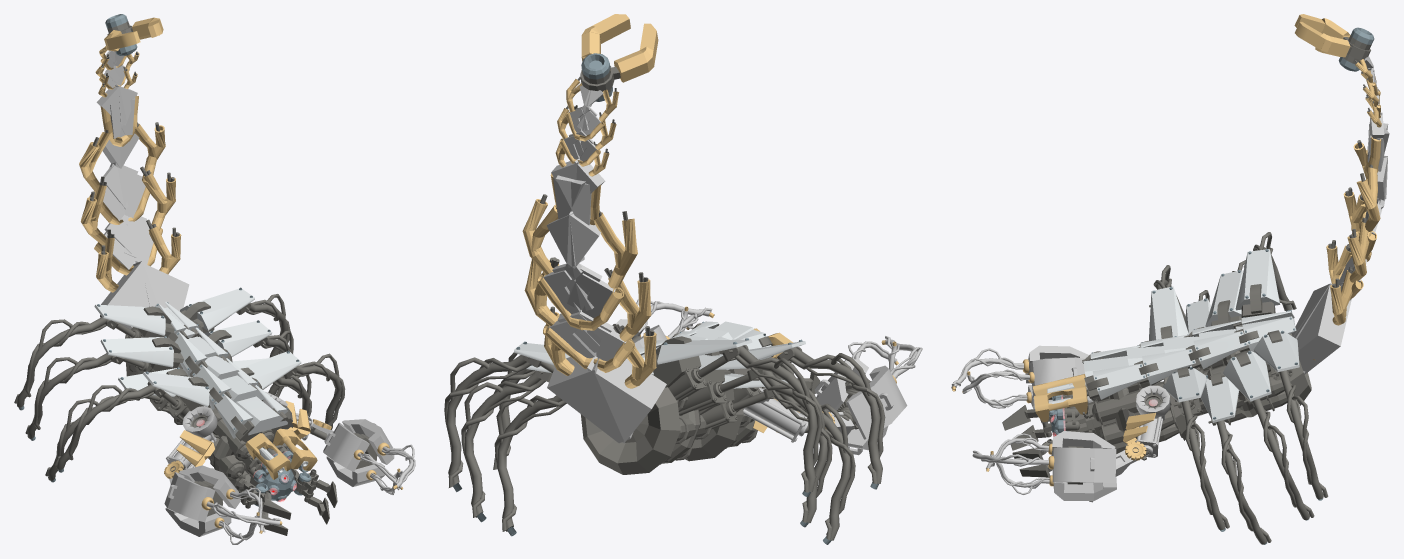
Rendered from nm__scorpion.glb.
3 renders of one model, left to right at view 1: azimuth 30°, elevation 25°; view 2: azimuth 150°, elevation 25°; view 3: azimuth 270°, elevation 25°, orthographic. The views are drawn at different scales.
Parts seen in each view (by area): view 1: Object_19, Object_28, Object_23, Object_26, Object_24, Object_27, Object_29, Object_3, Object_25, Object_10, Object_9, Object_8 (+8 smaller); view 2: Object_26, Object_24, Object_25, Object_28, Object_17, Object_29, Object_9, Object_19, Object_5, Object_8, Object_10, Object_13 (+8 smaller); view 3: Object_19, Object_27, Object_26, Object_28, Object_23, Object_15, Object_25, Object_3, Object_24, Object_17, Object_6, Object_4 (+5 smaller).
Boxes of the visible parts, box(x1,y1,x2,y2) form: Object_19: box(94, 288, 301, 438); Object_28: box(164, 406, 280, 544); Object_23: box(110, 19, 403, 533); Object_26: box(96, 84, 189, 334); Object_24: box(87, 17, 175, 288); Object_27: box(262, 392, 415, 494); Object_29: box(94, 50, 153, 269); Object_3: box(168, 320, 337, 535); Object_25: box(79, 18, 181, 292); Object_10: box(54, 376, 210, 469); Object_9: box(14, 306, 174, 407); Object_8: box(25, 337, 183, 438); Object_26: box(546, 85, 666, 443); Object_24: box(524, 25, 654, 383); Object_25: box(522, 32, 656, 388); Object_28: box(743, 336, 922, 455); Object_17: box(580, 375, 712, 474); Object_29: box(542, 105, 626, 361); Object_9: box(653, 336, 822, 492); Object_19: box(513, 321, 805, 388); Object_5: box(699, 369, 855, 540); Object_8: box(678, 351, 832, 523); Object_10: box(718, 347, 885, 484); Object_13: box(461, 370, 552, 517); Object_19: box(1083, 249, 1299, 422); Object_27: box(972, 385, 1170, 502); Object_26: box(1292, 56, 1389, 374); Object_28: box(951, 345, 1093, 409); Object_23: box(952, 14, 1325, 486); Object_15: box(1063, 376, 1195, 453); Object_25: box(1313, 20, 1381, 360); Object_3: box(1002, 319, 1259, 477); Object_24: box(1315, 18, 1381, 321); Object_17: box(1193, 333, 1311, 425); Object_6: box(1173, 367, 1229, 530); Object_4: box(1265, 330, 1328, 499).
Bounding box in the file's own units: 2.2 × 3.21 × 2.72.
